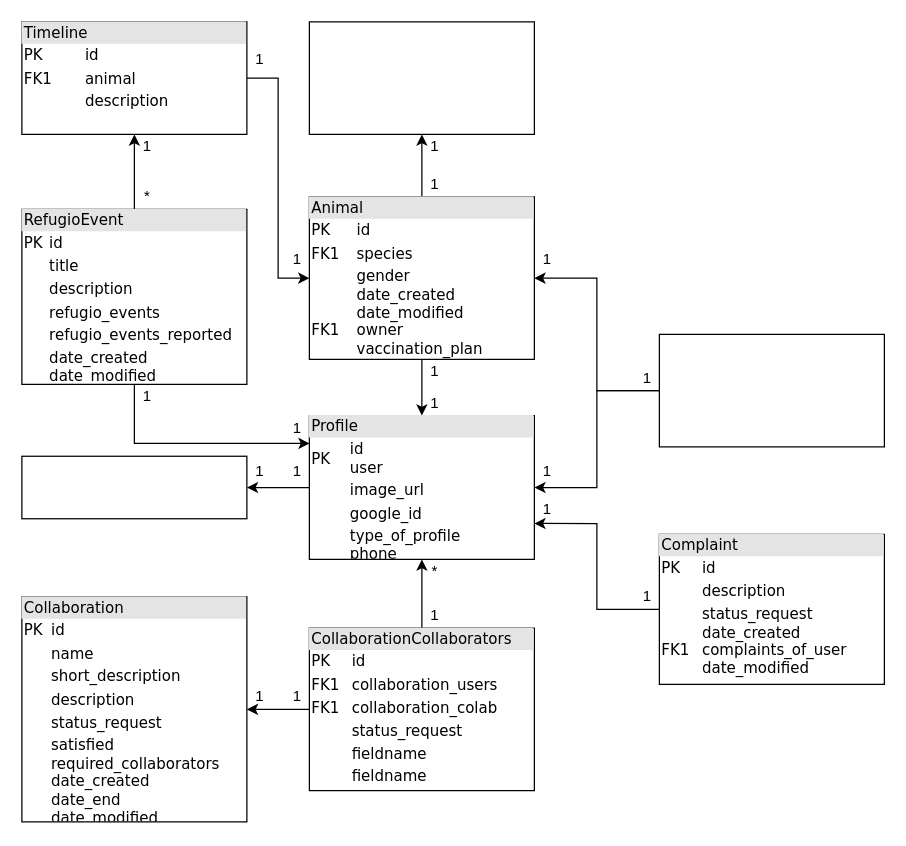
This 906x846 diagram has some shape labels left out. The shapes that lost their labels are listed below. From the top down, each one's box as (x1, y1, x2, y2) in pixels, then its label:
(308, 21, 534, 134): AnimalSpecie PK id name default_vaccination_plan
(658, 333, 884, 447): Adoption PK id FK1 animal FK1 potential_adopter
(21, 455, 247, 519): [Django] User PK id
